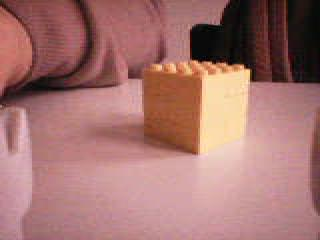legocube: (140, 58, 253, 156)
